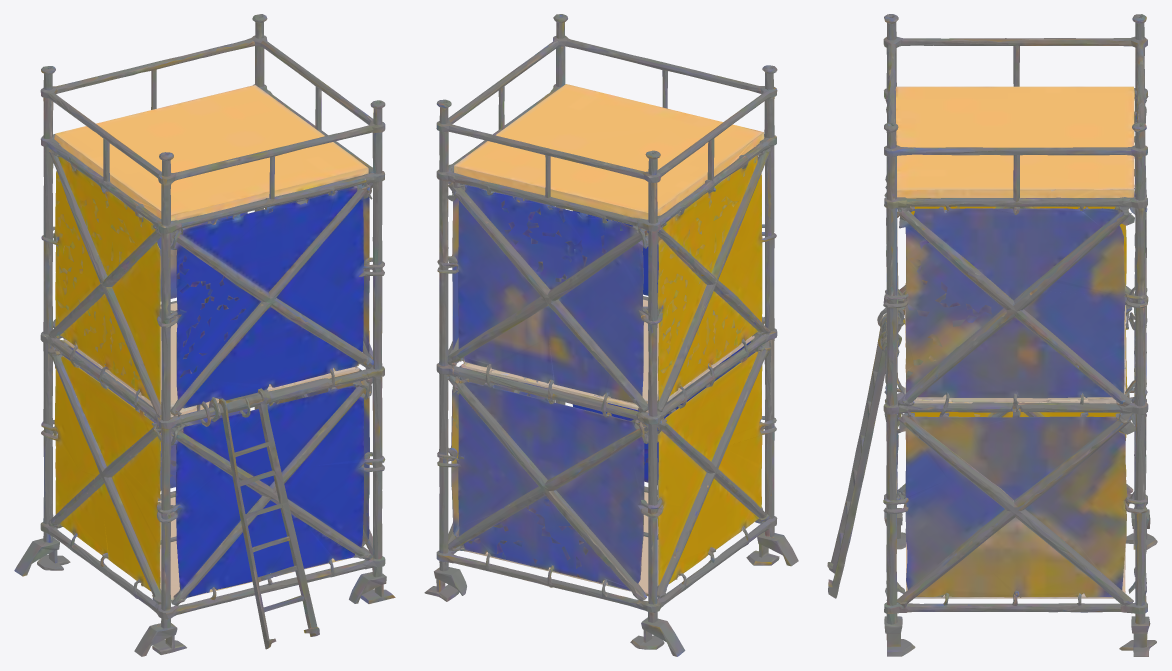
File: banner-tower.glb
3 renders of one model, left to right at view 1: azimuth 30°, elevation 25°; view 2: azimuth 150°, elevation 25°; view 3: azimuth 270°, elevation 25°, orthographic. The views are drawn at different scales.
Parts seen in each view (by area): view 1: geometry_0; view 2: geometry_0; view 3: geometry_0.
Boxes of the visible parts, x1,y1,x2,y2 form: geometry_0: (14,14,395,656); geometry_0: (424,14,798,656); geometry_0: (827,14,1157,656).
Bounding box in the file's own units: 0.5389 × 1 × 0.5687.
Materials: 1 (1 with a texture image).
